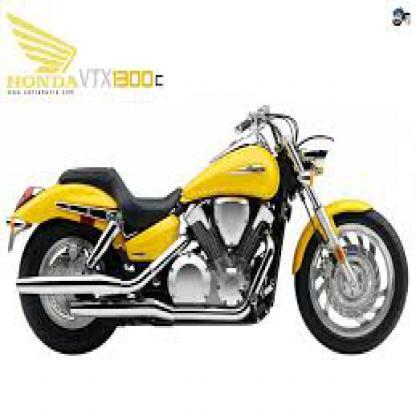Motorcycle: (0, 99, 414, 359)
